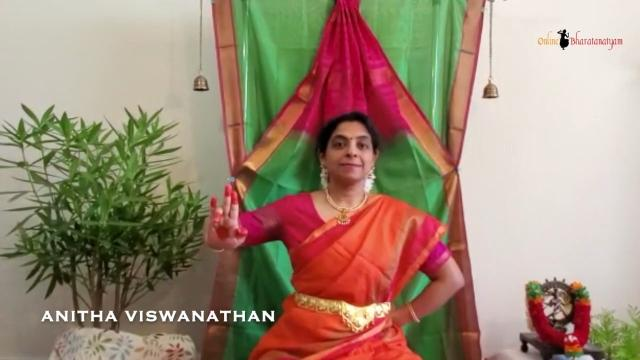tripataka: (202, 180, 246, 262)
